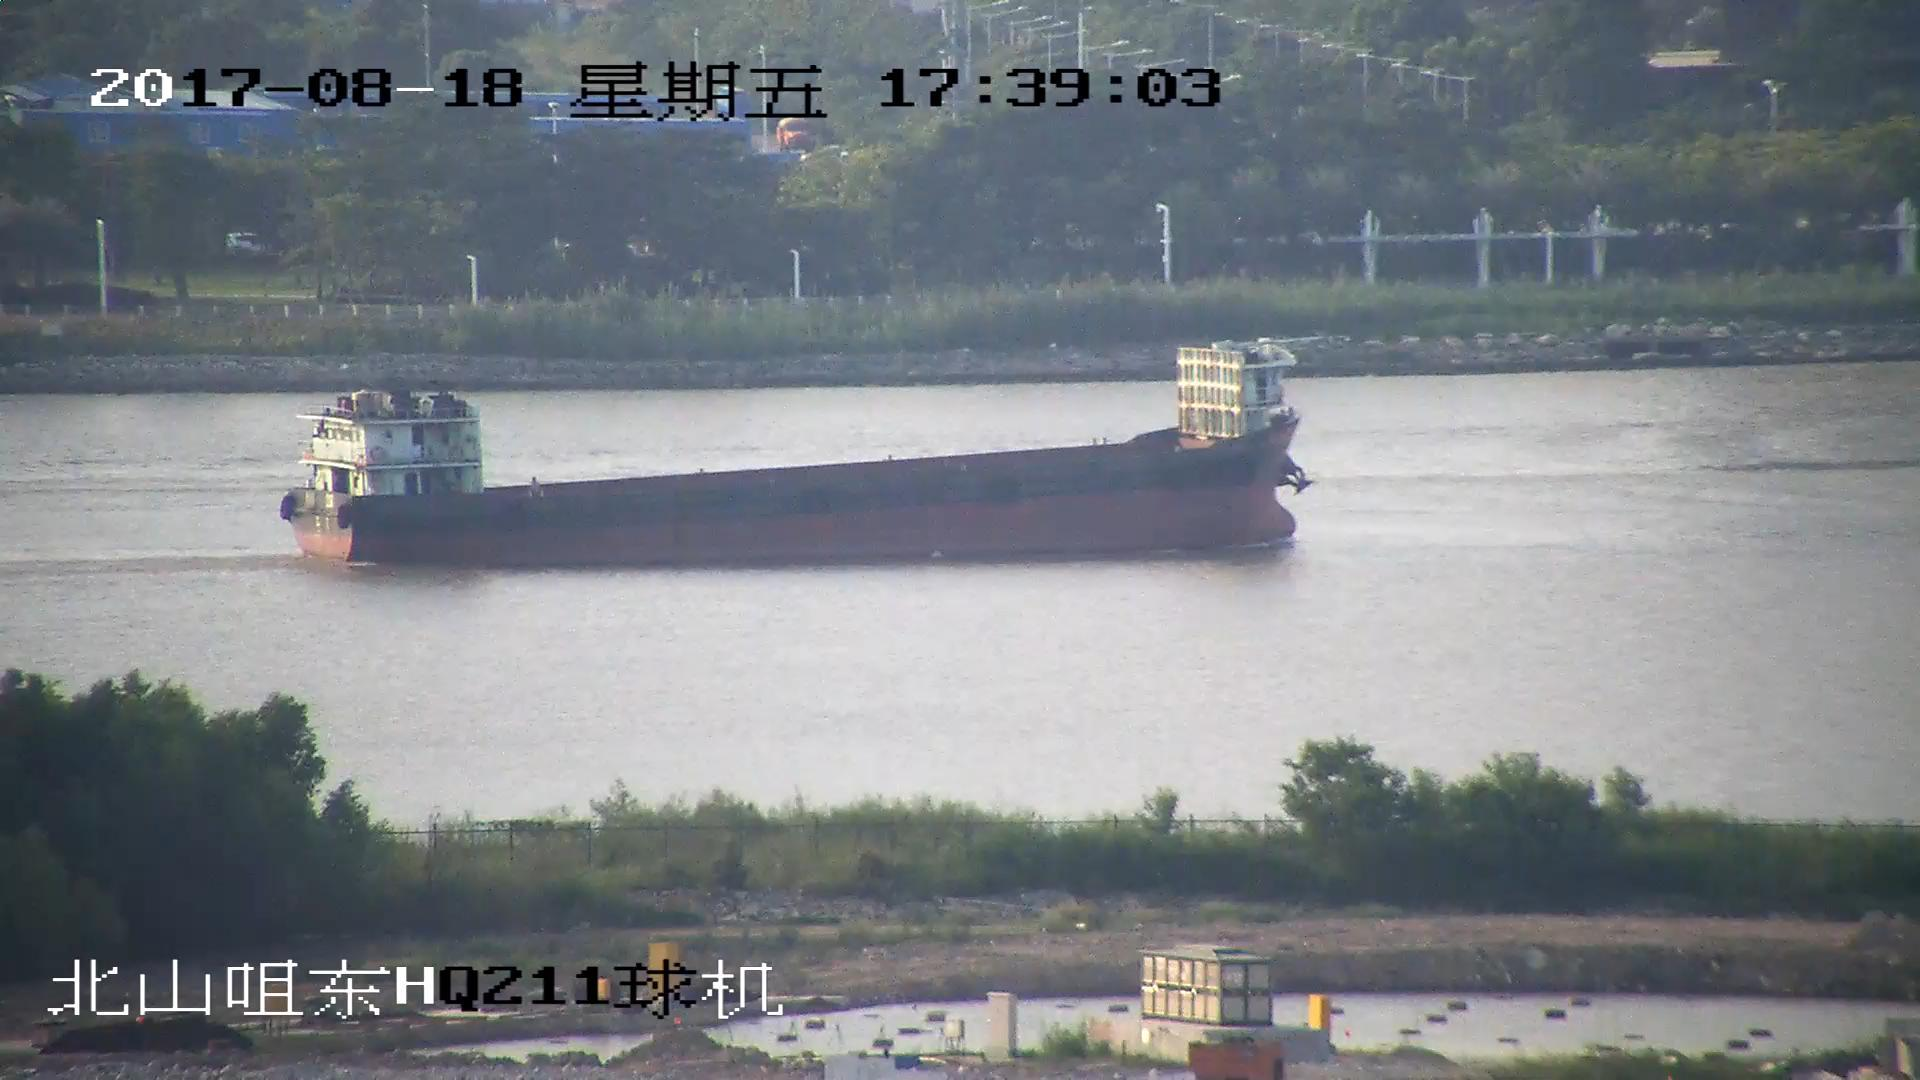Ship: (286, 339, 1320, 564)
